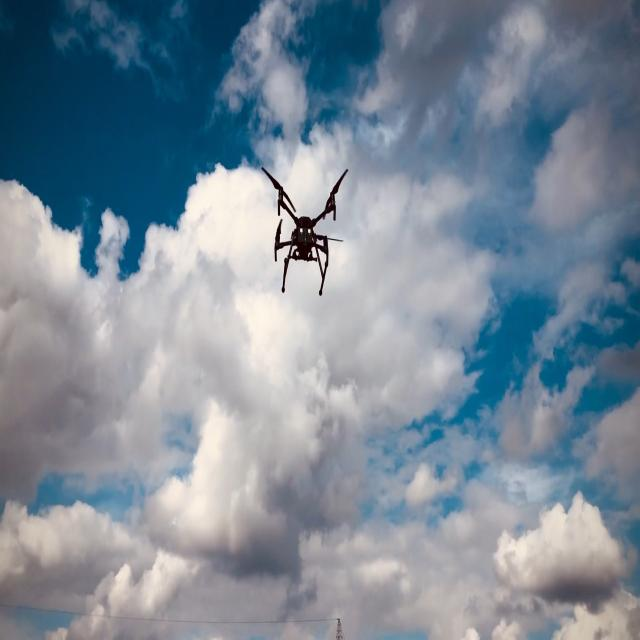drone: (260, 164, 348, 296)
